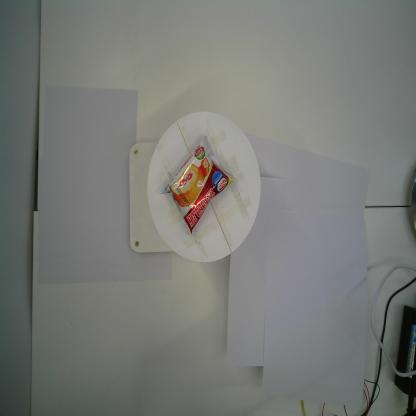Dessert: (159, 134, 236, 236)
